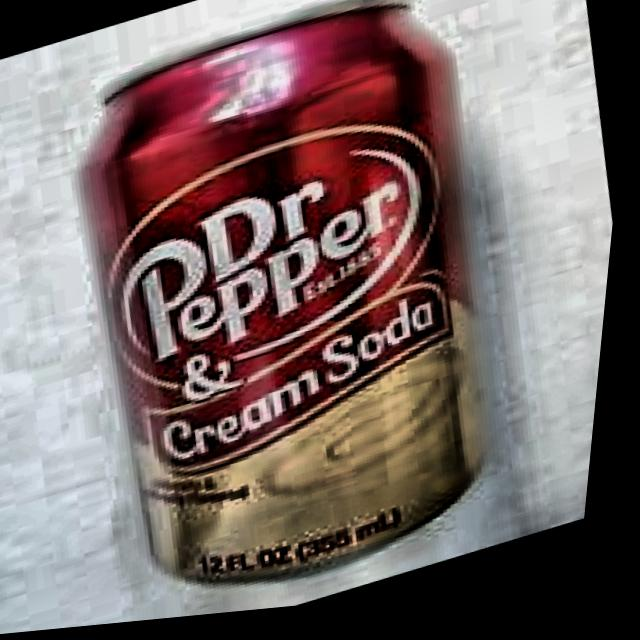Cans: (5, 0, 590, 636)
